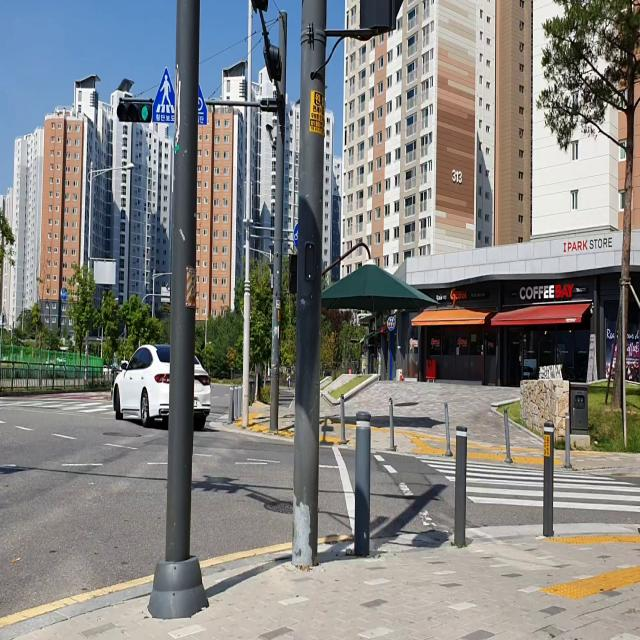횡단보도: (414, 454, 640, 514)
